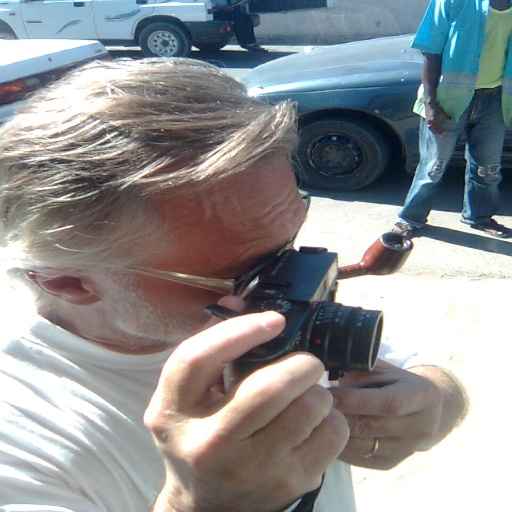hand: (140, 310, 394, 509), (323, 353, 448, 472), (422, 99, 456, 137)
